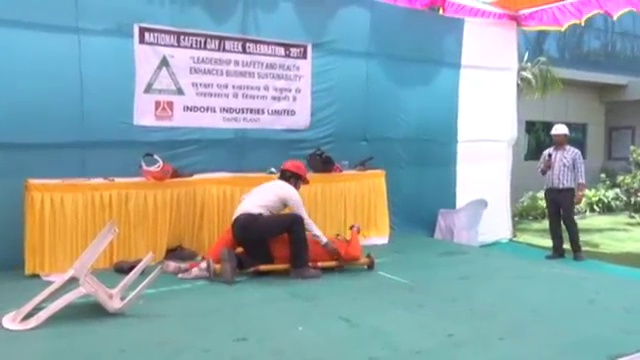helmet: (280, 159, 312, 187), (549, 122, 573, 138)
helmet_on: (278, 158, 312, 194), (548, 122, 573, 150)
person: (217, 157, 323, 284), (165, 226, 363, 282), (535, 122, 590, 265)
